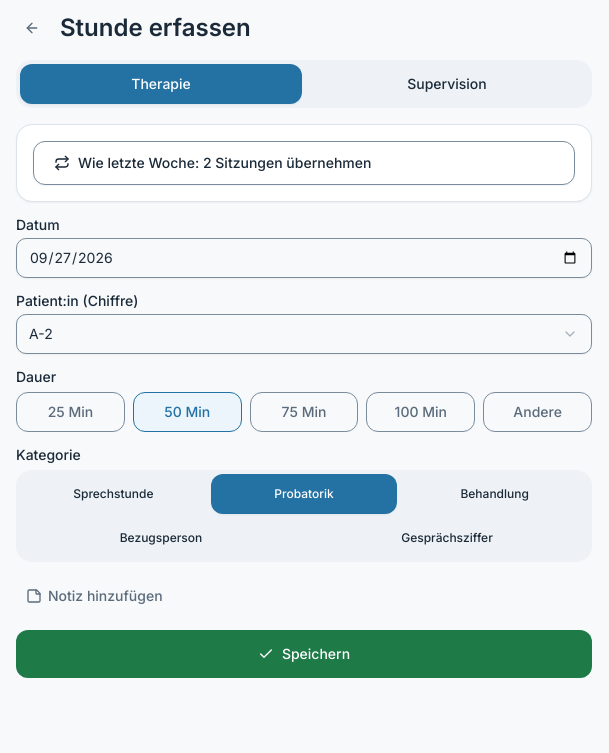
NewSessionClient › Wie letzte Woche: erst prüfen, dann speichern – nie ohne Knopf
This screenshot has width=609, height=753.
Click the button "Wie letzte Woche: 2 Sitzungen übernehmen" at coordinates (304, 163), box [33,141,575,185]
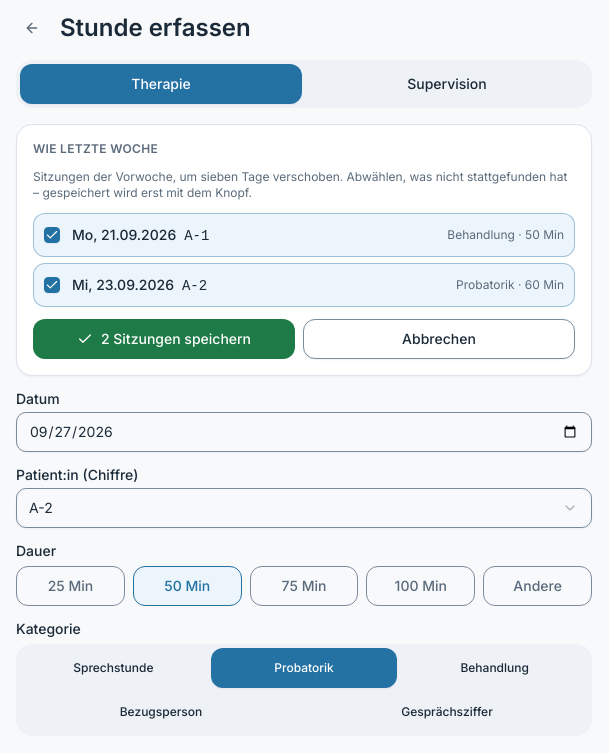
Now the number of checkboxes is 2
Now the text "Mo, 21.09.2026" is shown, box [72,226,176,242]
Click the checkbox next to "Mi, 23.09.2026" at coordinates (52, 285), box [44,277,60,293]
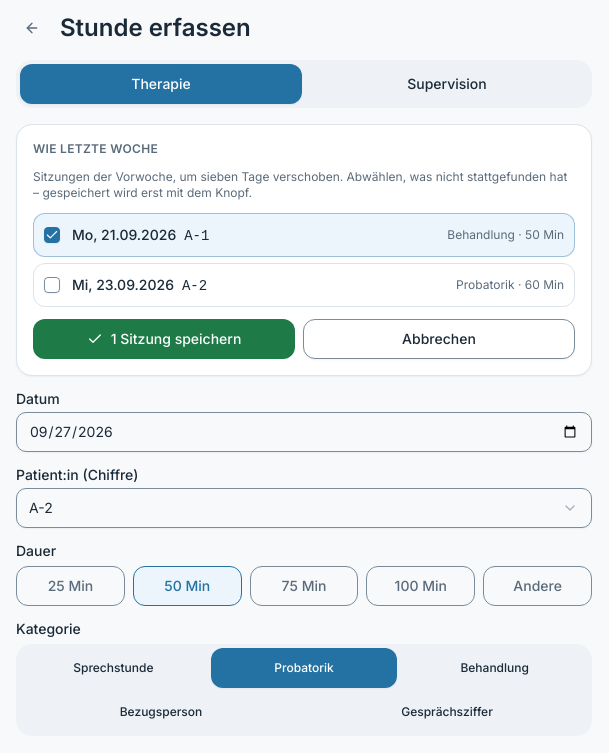
Click the button "1 Sitzung speichern" at coordinates (164, 339), box [33,319,295,359]
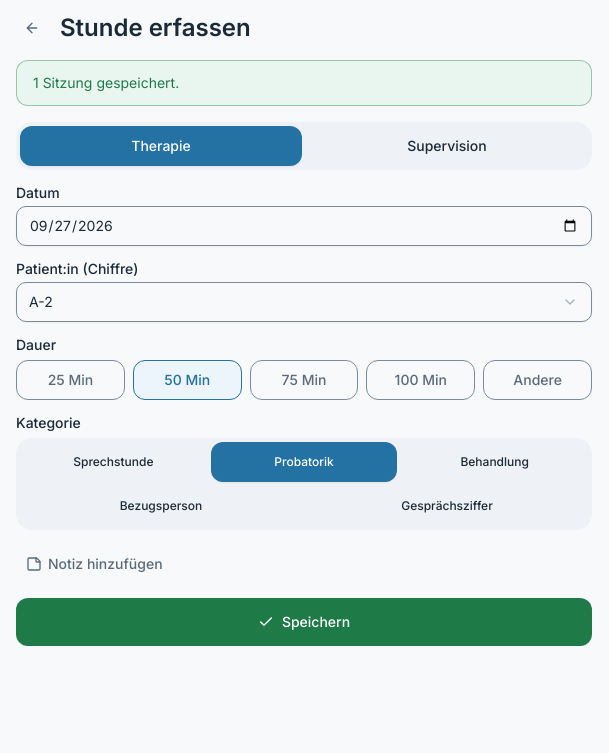
Now the message reads "1 Sitzung gespeichert.", box [16,60,592,106]
Now the heading "Wie letzte Woche" is gone
